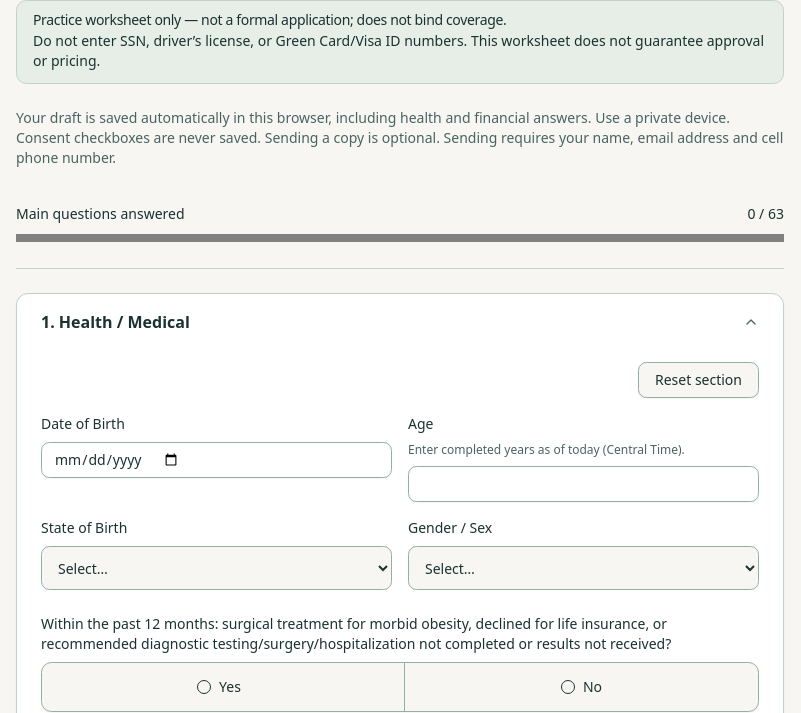
Scenario: blur-time validation › waits until the user leaves an answer before showing its problem
Type "9999" into the number field labelled "Age" at (584, 484), box [408,466,759,502]
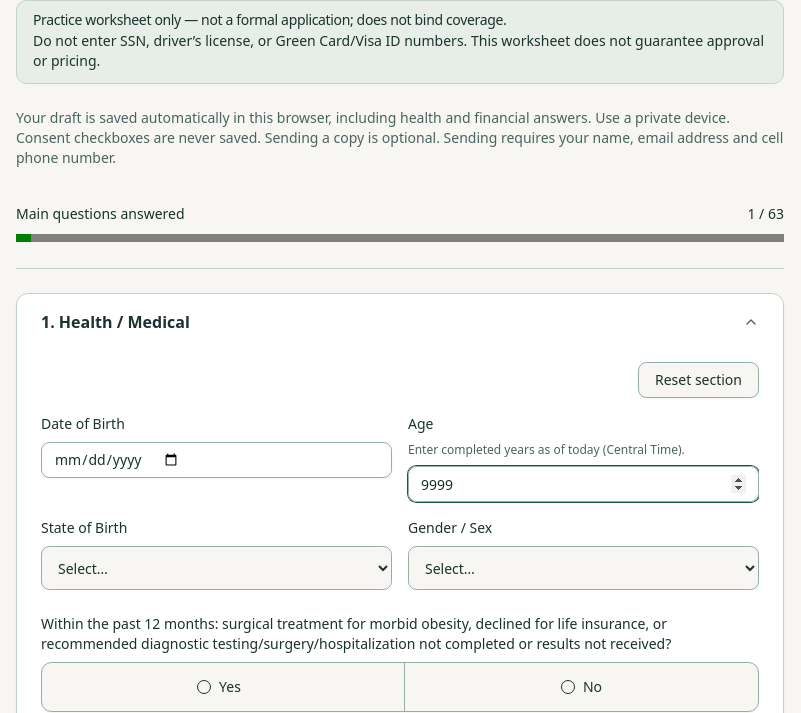
Press Tab
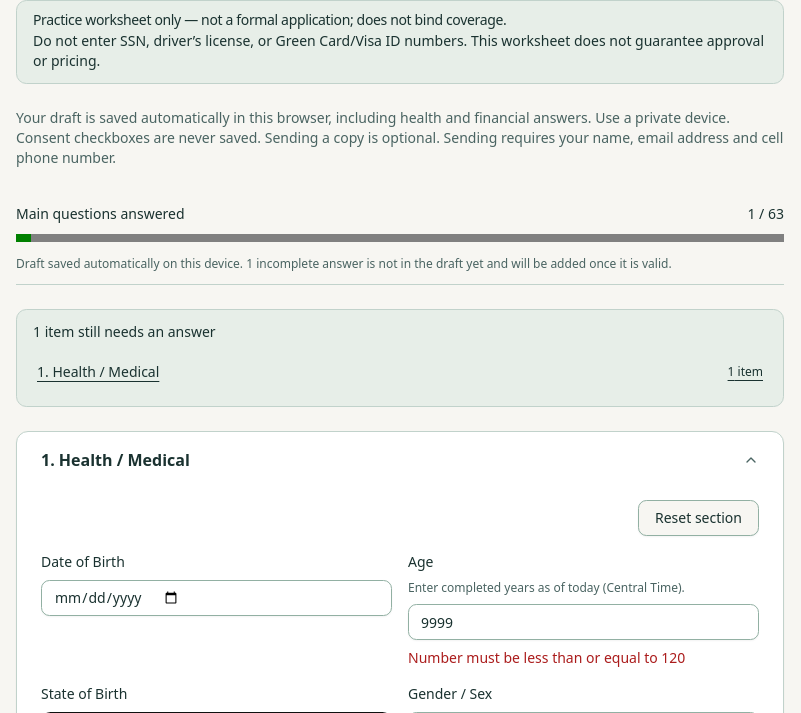
Expected: the message "Number must be less than or equal to 120" is shown, [408,648,685,667]
